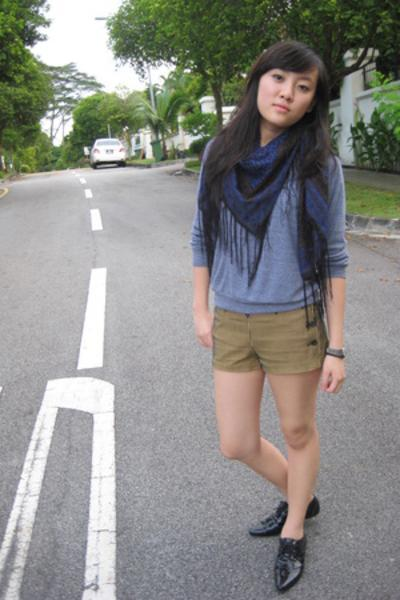shirt: (192, 158, 354, 321)
shoe: (252, 497, 319, 594)
shorts: (211, 302, 343, 376)
